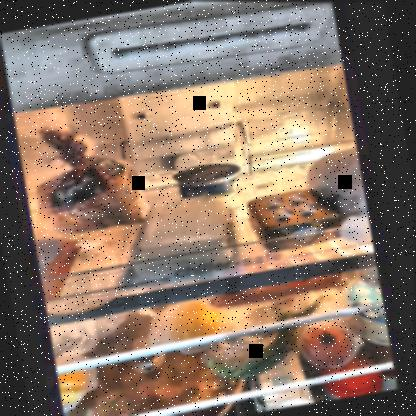butter: (247, 181, 345, 256)
cheese: (121, 196, 245, 286)
green_chillies: (218, 311, 309, 383)
lemon: (165, 297, 233, 358)
milk: (251, 364, 320, 412)
tomato: (292, 315, 366, 372)
yoghurt: (346, 276, 396, 351), (171, 157, 246, 206)
